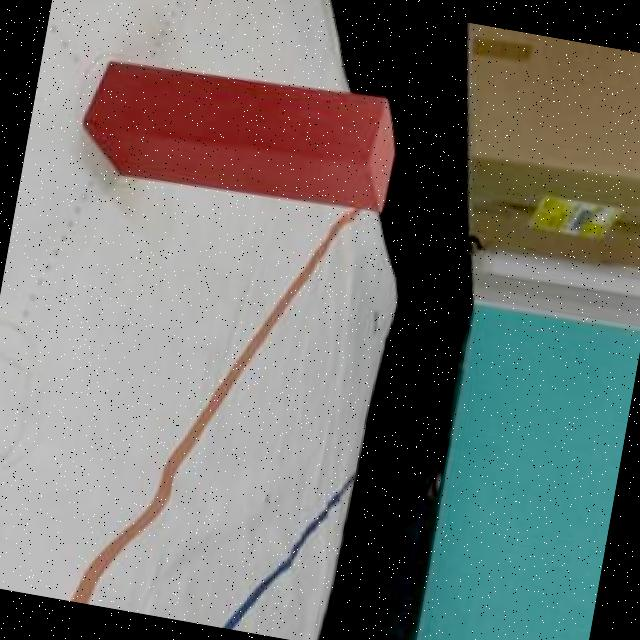redbox: (74, 44, 406, 228)
